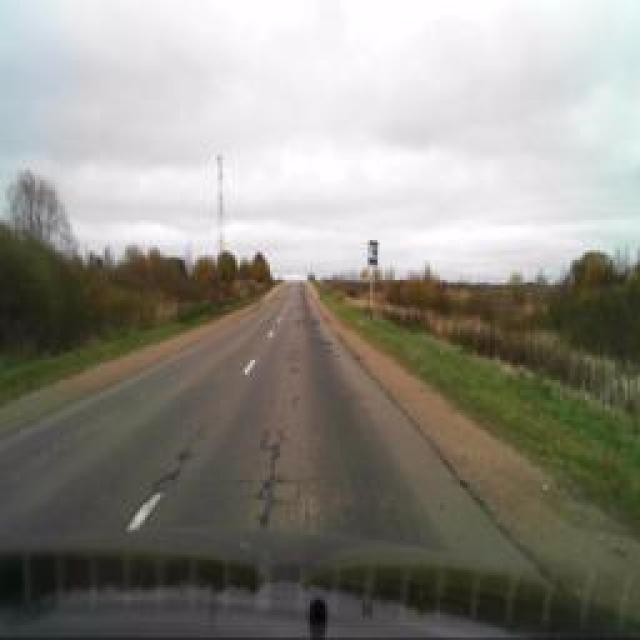sign: (368, 238, 378, 264)
